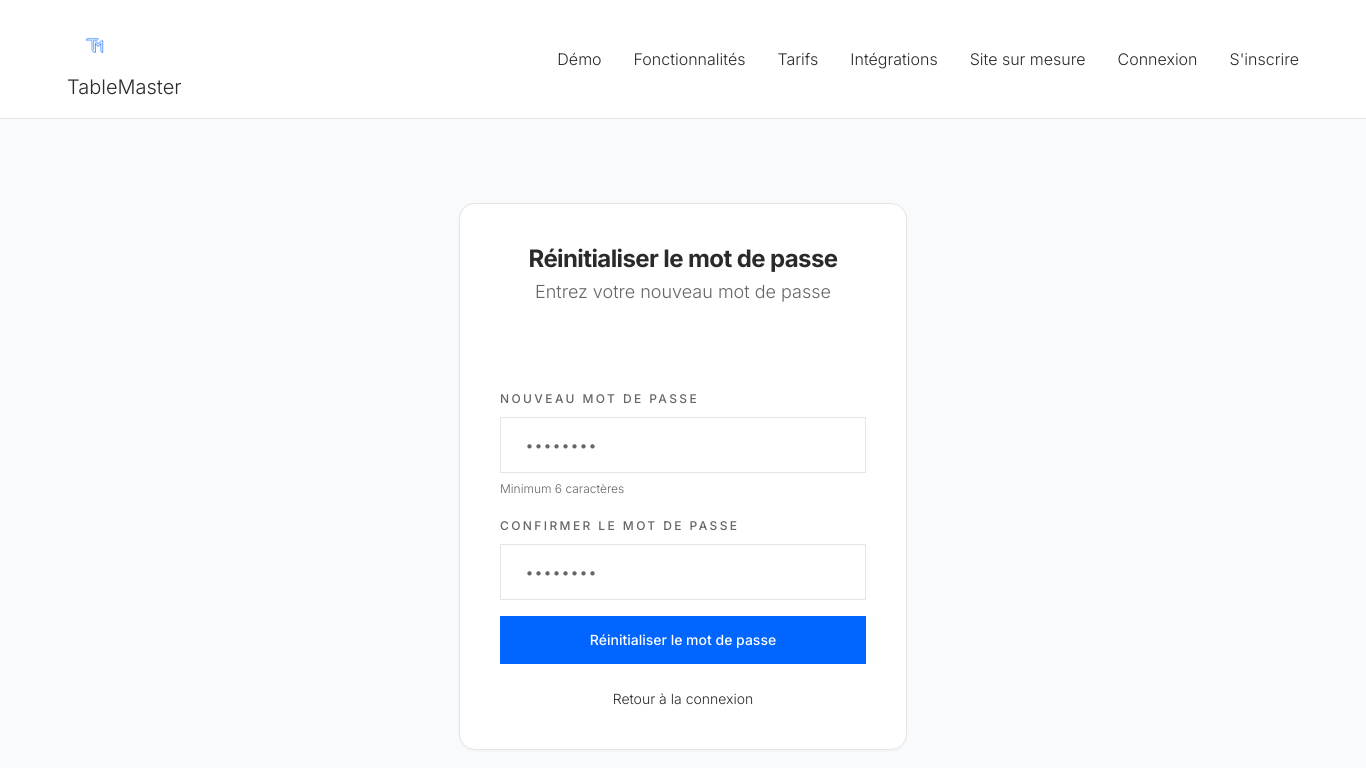
Reset Password Page › should handle successful password reset
This screenshot has width=1366, height=768.
Type "newPassword123" into the password field with placeholder "••••••••".
click(683, 444); type("newPassword123")  # box [500,416,866,472]
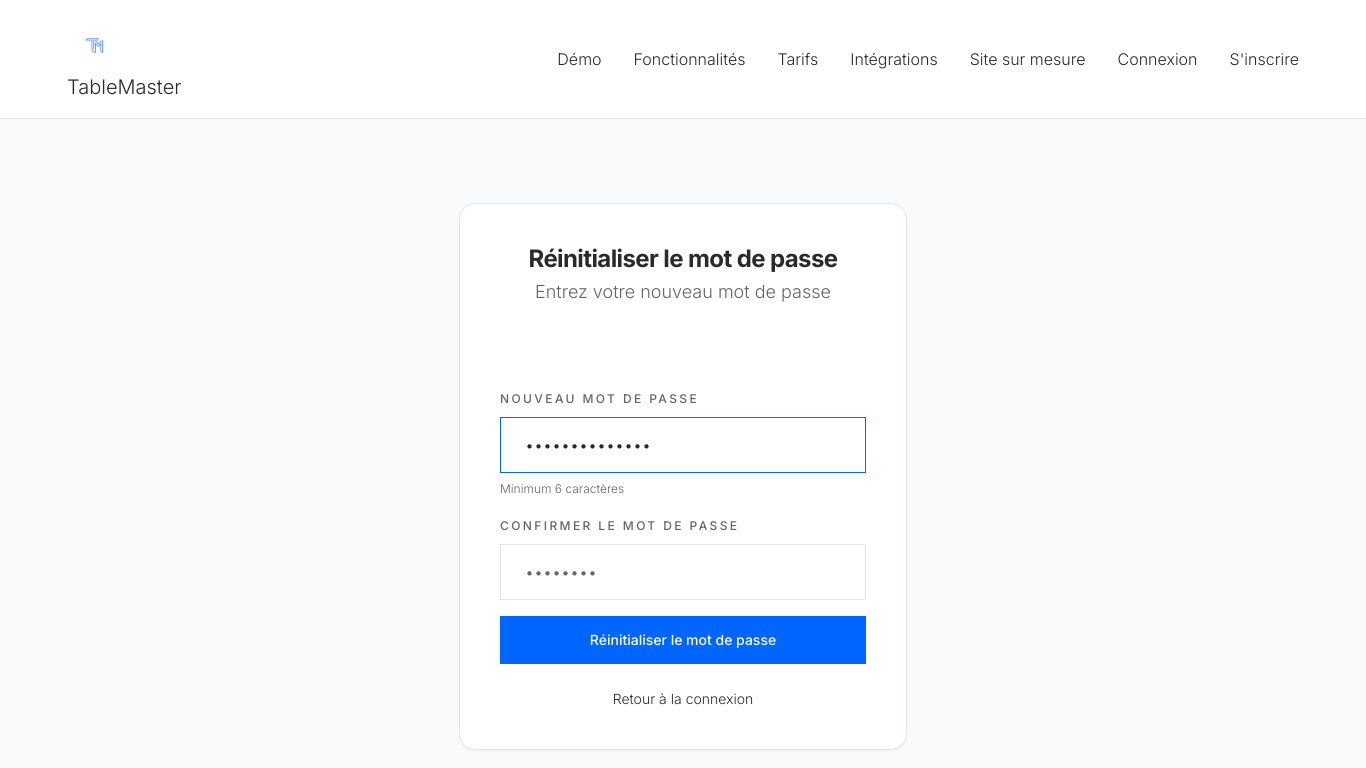
Type "newPassword123" into the password field with placeholder "••••••••".
click(683, 572); type("newPassword123")  # box [500,544,866,600]
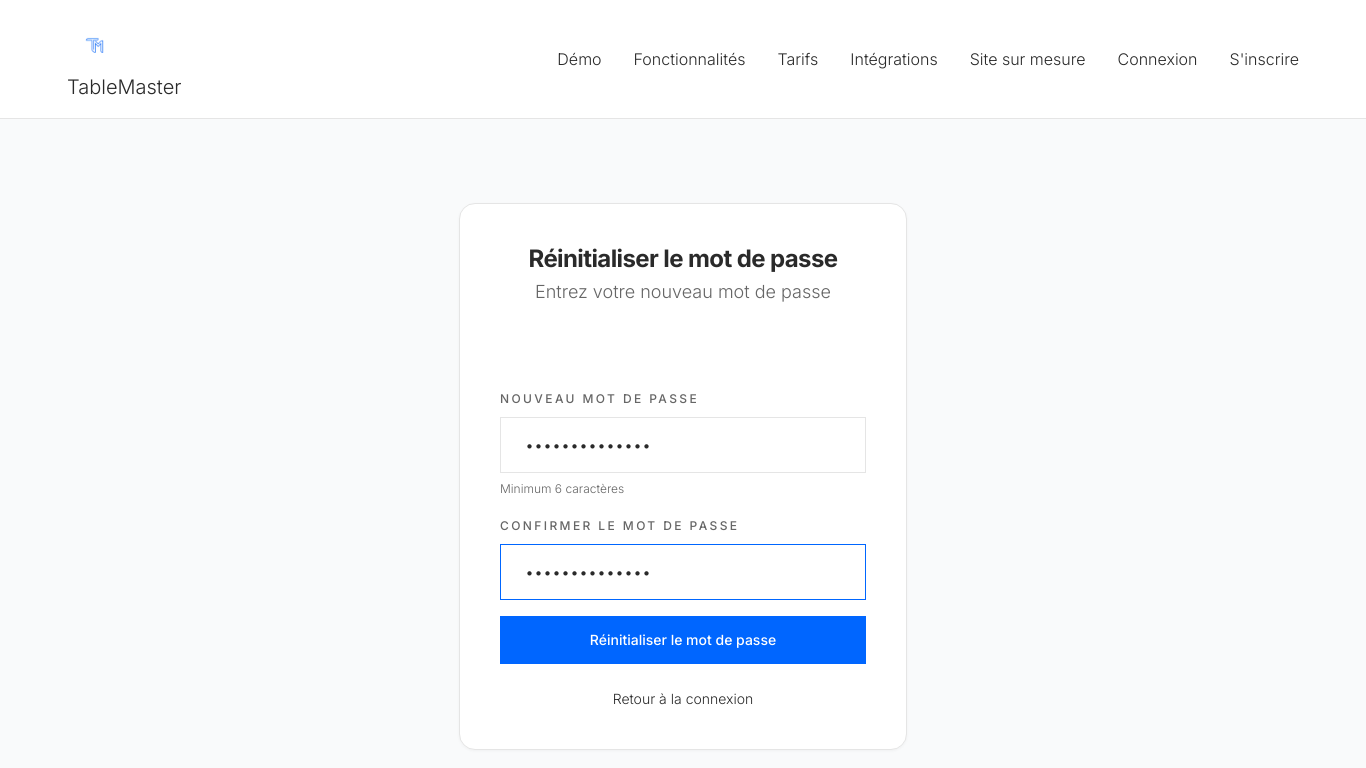
Click the button "Réinitialiser le mot de passe".
click(683, 640)  # box [500,616,866,664]
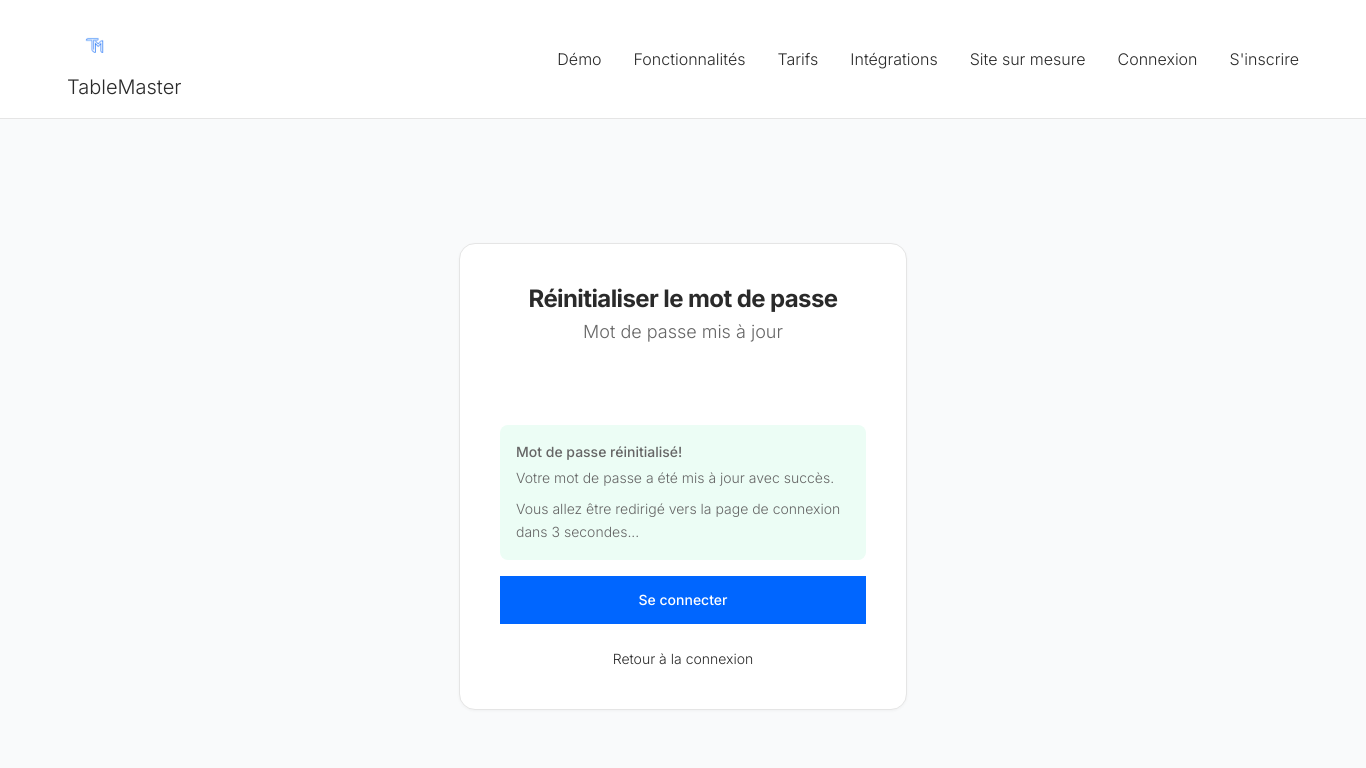
Now the text "Mot de passe réinitialisé!" is shown, box [516,442,682,460]
Now the text "Vous allez être redirigé" is shown, box [516,500,840,540]
